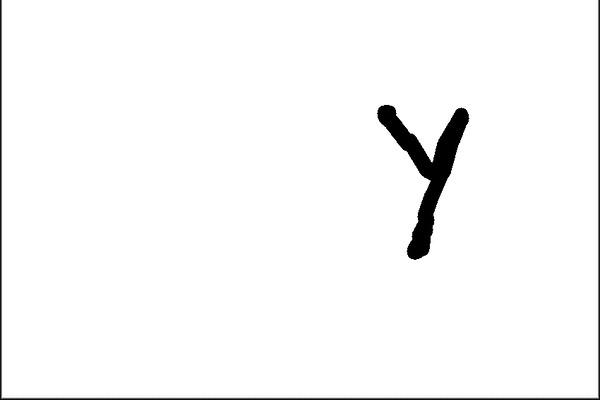Y: (362, 87, 479, 280)
